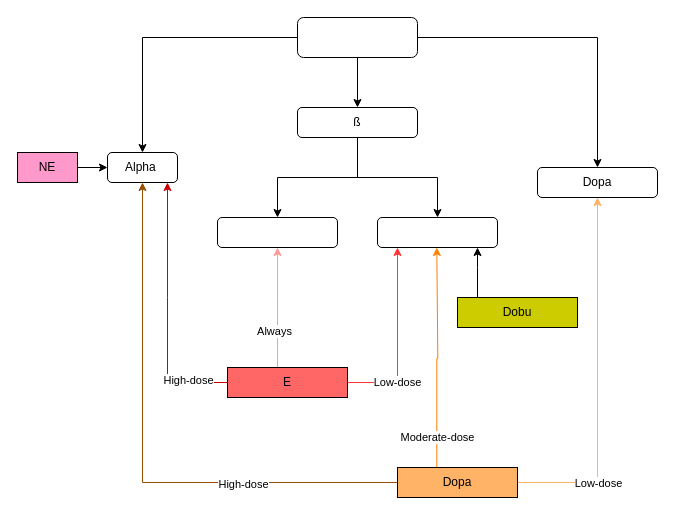
This 675x515 diagram has some shape labels left out. The shapes that lost their labels are listed below. From the top down, each one's box as (x1, y1, x2, y2) in pixels, then its label:
(296, 16, 418, 58): Thụ thể giao cảm
(216, 216, 338, 248): ß2
(376, 216, 498, 248): ß1
